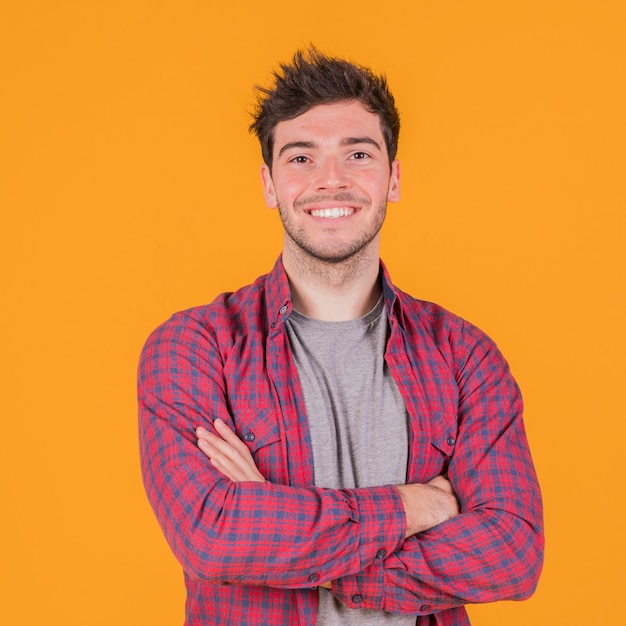young: (238, 35, 421, 259)
